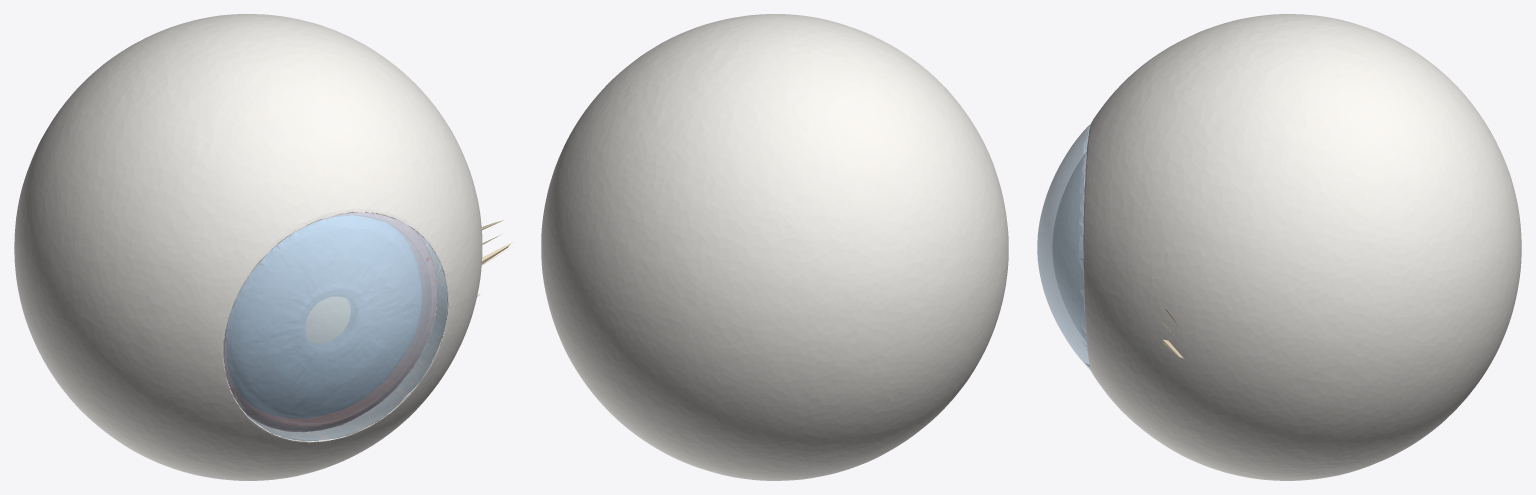
Rendered from occhio.glb.
3 renders of one model, left to right at view 1: azimuth 30°, elevation 25°; view 2: azimuth 150°, elevation 25°; view 3: azimuth 270°, elevation 25°, orthographic.
Parts seen in each view (by area): view 1: right sclera, right cornea, right iris, right choroid, right lens; view 2: right sclera; view 3: right sclera, right cornea.
Part boxes in pixels (x1,y1,x2,y2): right sclera: (14, 14, 482, 480); right cornea: (223, 212, 447, 441); right iris: (226, 216, 421, 417); right choroid: (224, 213, 436, 431); right lens: (306, 297, 349, 342); right sclera: (541, 14, 1008, 480); right sclera: (1083, 14, 1521, 480); right cornea: (1037, 124, 1090, 370).
Size of the model in its own units: 27.2 by 26.23 by 27.22.
